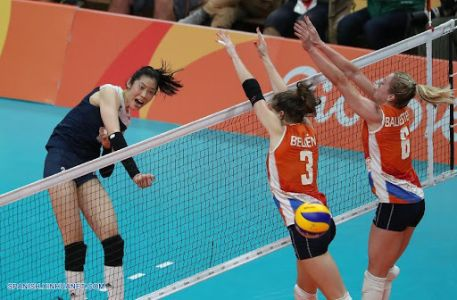voleibol: (295, 202, 330, 239)
